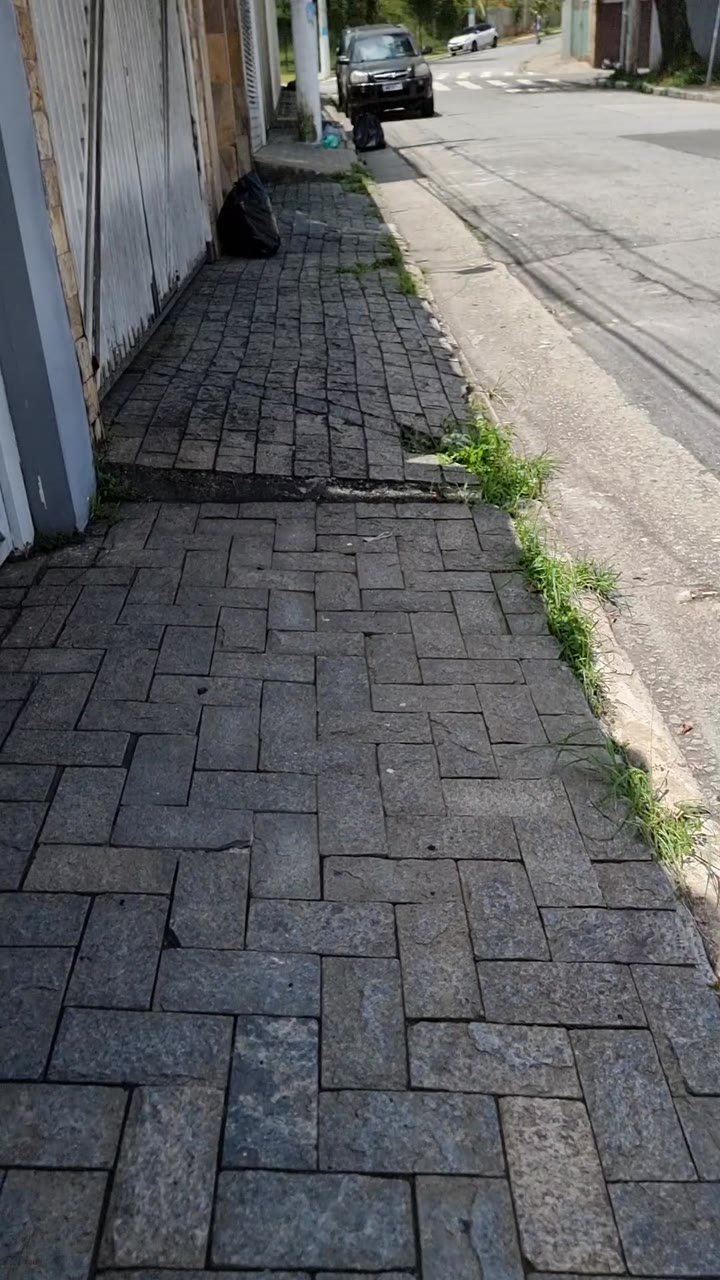desnivel: (86, 461, 468, 550)
obstaculo: (217, 171, 280, 258), (353, 112, 386, 152)
